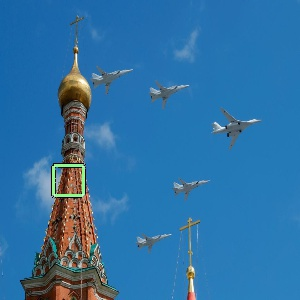square: (51, 163, 86, 198)
